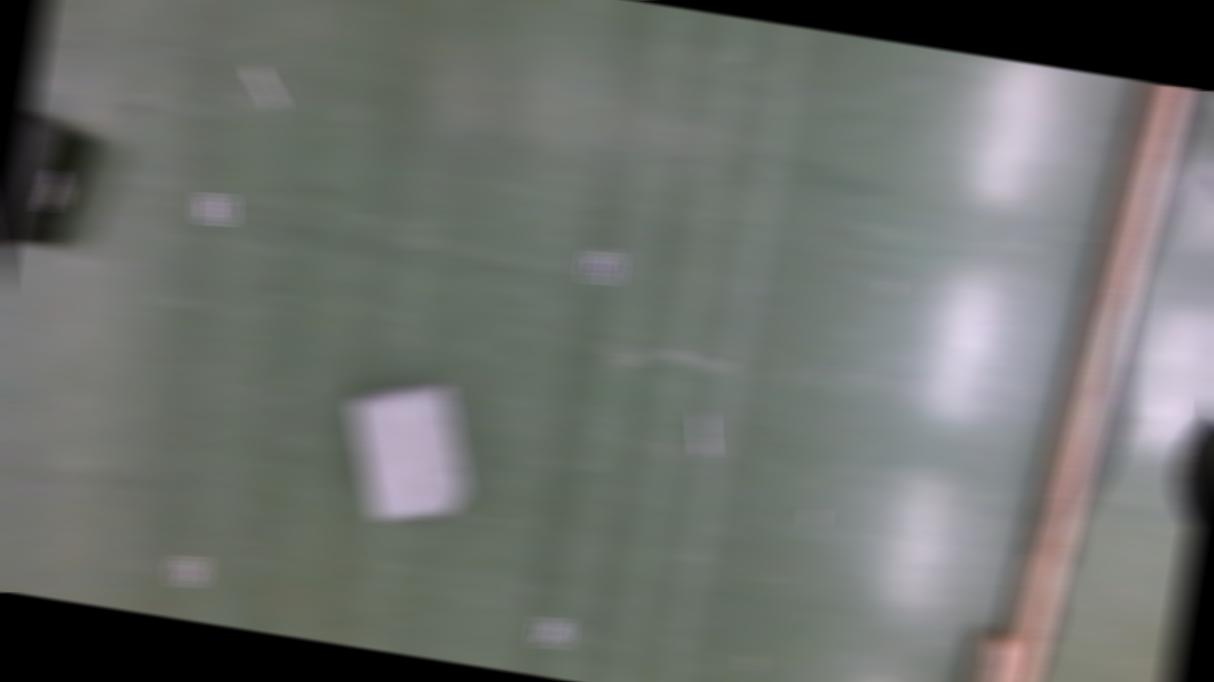probes: (242, 64, 290, 112), (687, 411, 718, 459)
rako: (330, 368, 486, 536), (3, 107, 103, 253)
